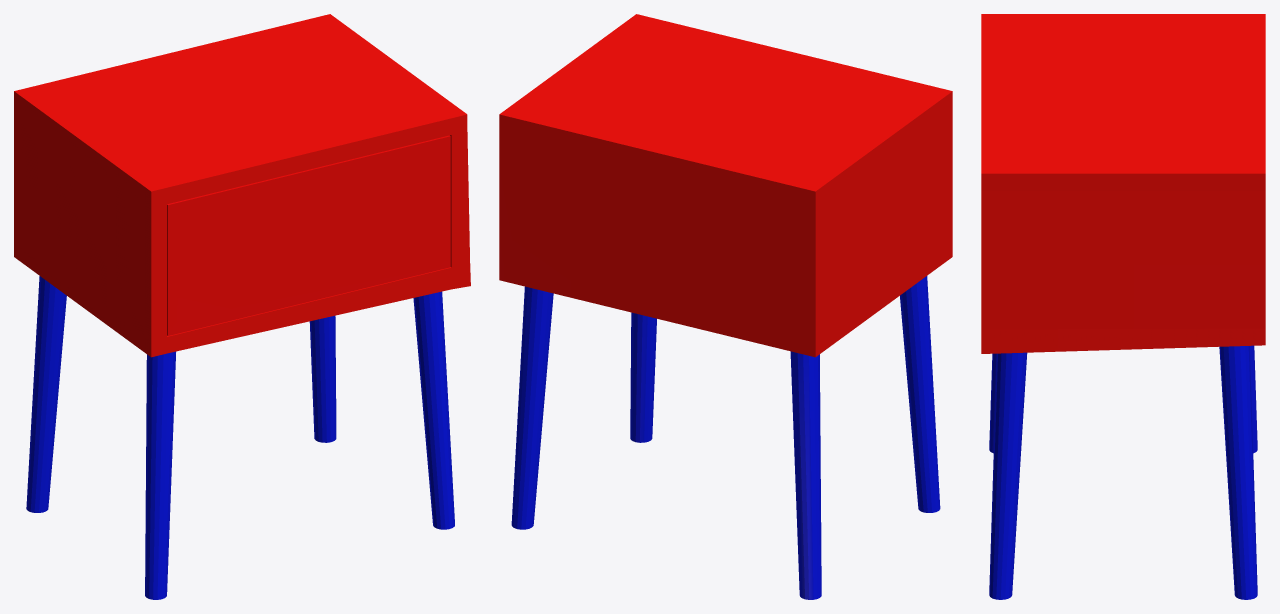
The model's file is Nightstand.fbx.
3 views of the same model, side by side, from view 1: azimuth 30°, elevation 25°; view 2: azimuth 150°, elevation 25°; view 3: azimuth 270°, elevation 25° (orthographic). The views are drawn at different scales.
Visible parts, largest first — view 1: structure, Drawer; view 2: structure; view 3: structure.
Boxes of the visible parts, x1=… form: structure: x1=14, y1=14, x2=470, y2=599; Drawer: x1=167, y1=135, x2=450, y2=335; structure: x1=499, y1=14, x2=952, y2=599; structure: x1=981, y1=14, x2=1265, y2=599.
Size of the model in its own units: 40.4 by 49.98 by 30.02.
